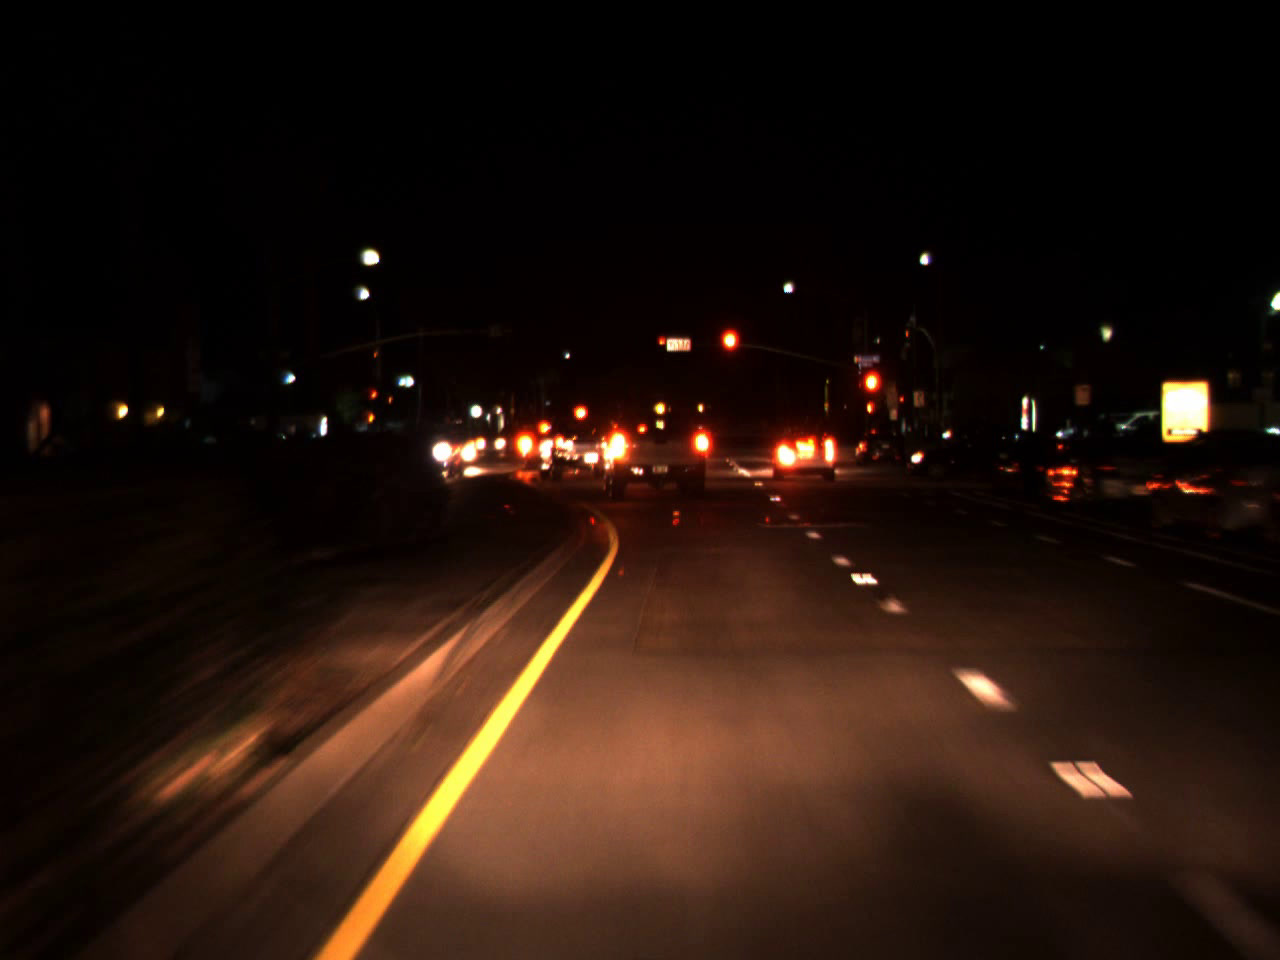stop: (718, 325, 742, 379), (860, 367, 884, 421), (657, 336, 666, 352), (371, 390, 377, 406)
